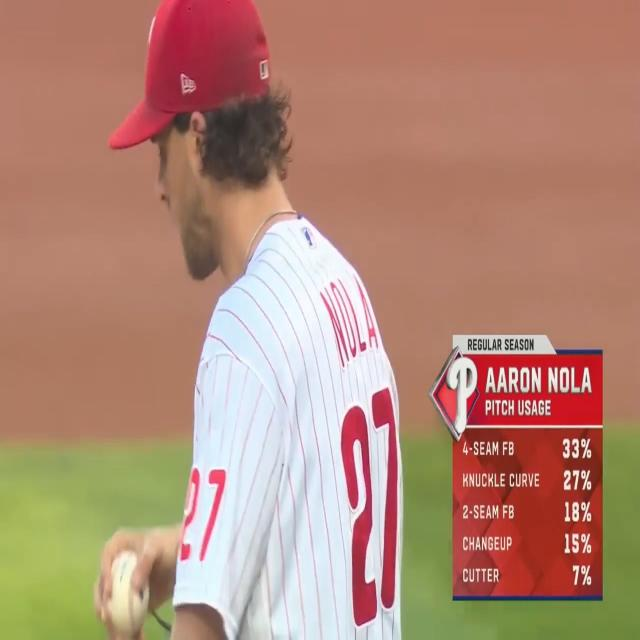baseball: (104, 549, 150, 634)
